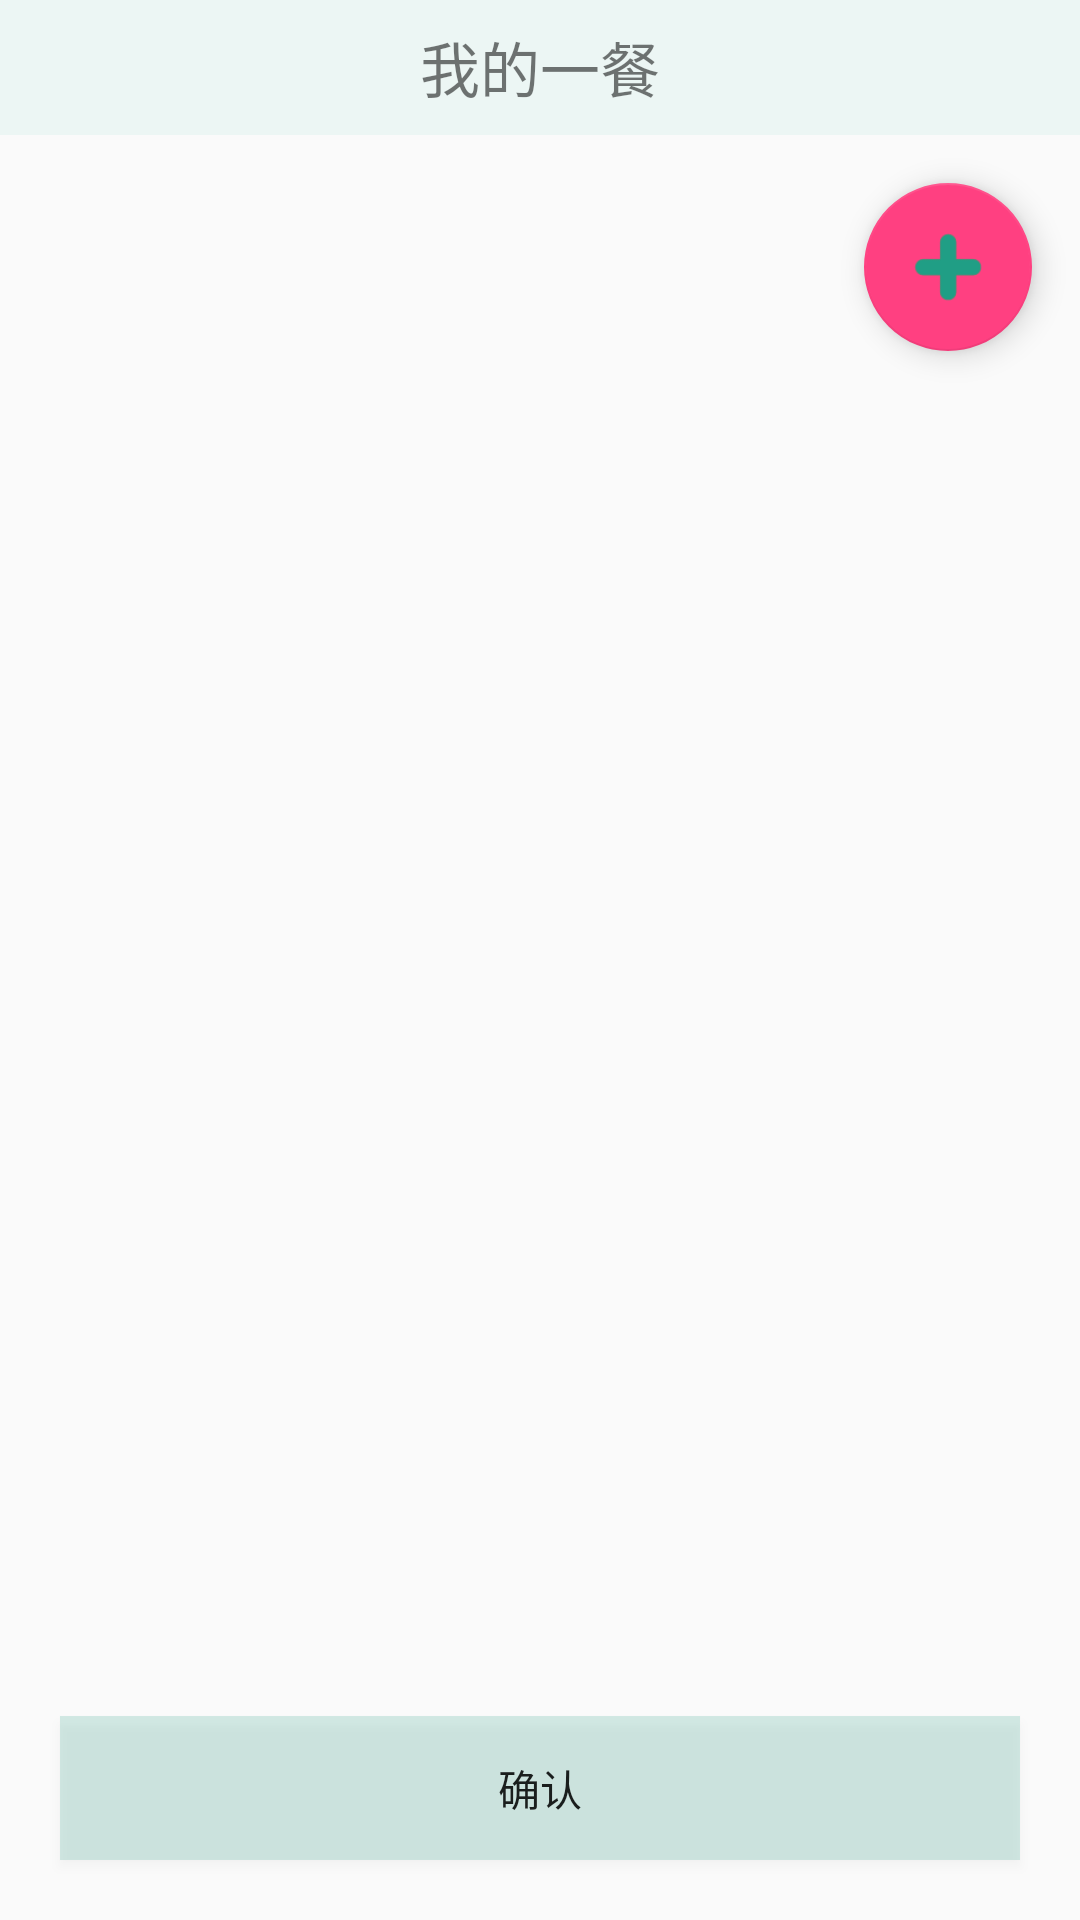

Named icons in this screenshot (1080w x 1920h) and their centers, (x=x, y=y):
addfab: (x=948, y=267)
